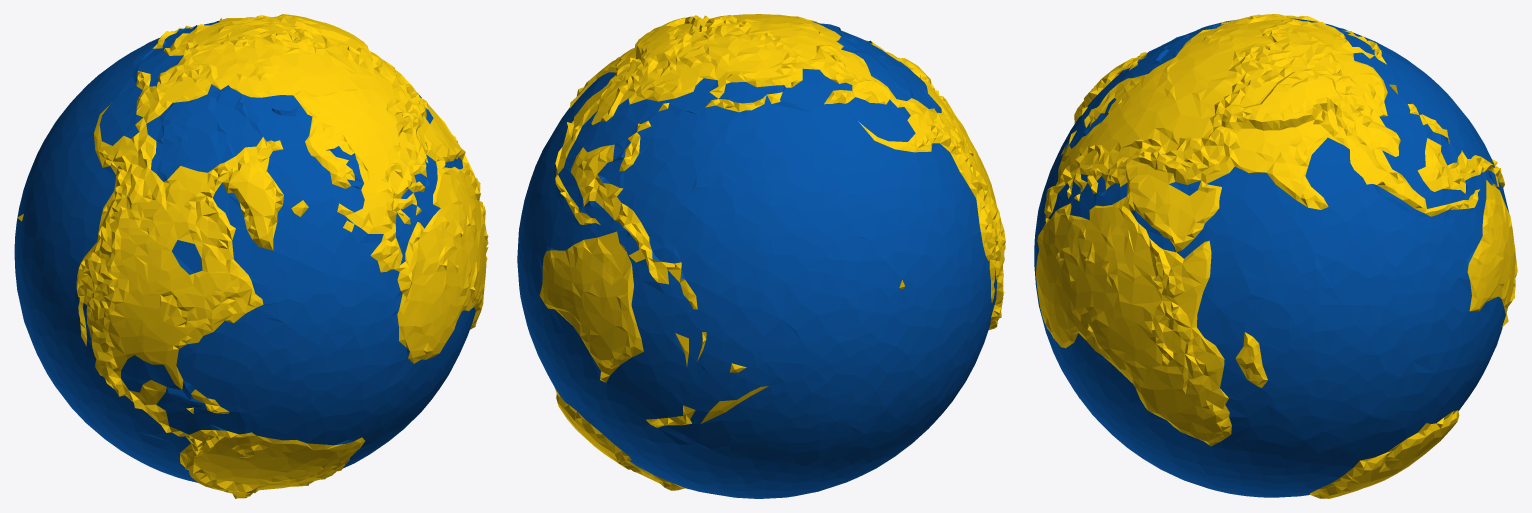
Rendered from earth.glb.
The picture shows the model from 3 angles, left to right: view 1: azimuth 30°, elevation 25°; view 2: azimuth 150°, elevation 25°; view 3: azimuth 270°, elevation 25°; orthographic projection. The views are drawn at different scales.
Visible parts, largest first — view 1: Earth.Lowpoly.A; view 2: Earth.Lowpoly.A; view 3: Earth.Lowpoly.A.
Part boxes in pixels (x1=…): Earth.Lowpoly.A: x1=14, y1=14, x2=488, y2=498; Earth.Lowpoly.A: x1=517, y1=14, x2=1005, y2=498; Earth.Lowpoly.A: x1=1034, y1=14, x2=1517, y2=498.
Bounding box in the file's own units: 2.03 × 2.05 × 2.02.
